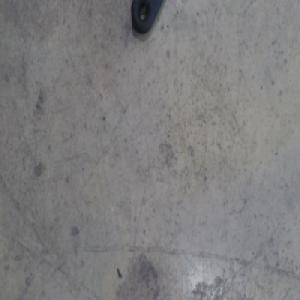AdjustableWrench: (131, 0, 163, 35)
